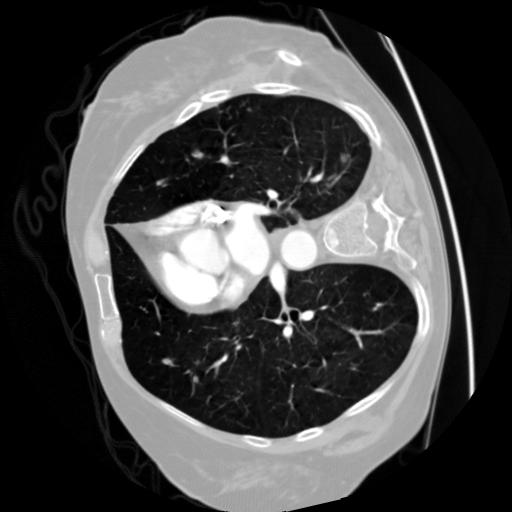nodule: (159, 352, 176, 369)
